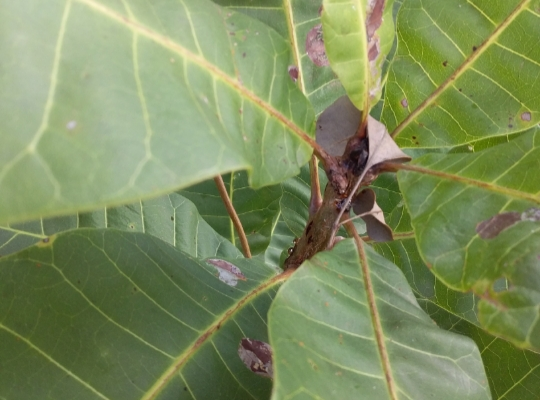Dysdercus wolkerii: (1, 226, 298, 400), (402, 125, 539, 298), (317, 1, 404, 120)
